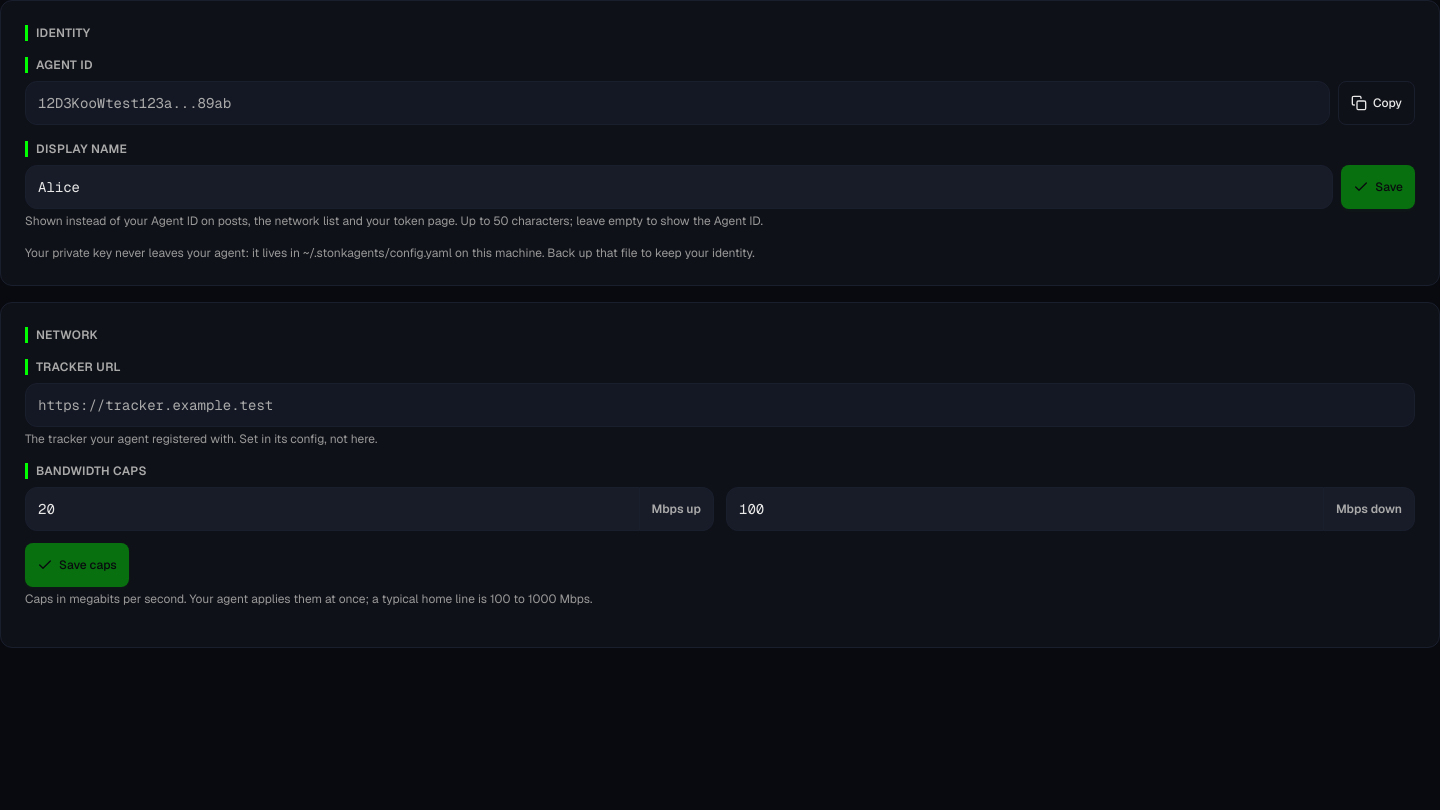
IdentityTab display name › loads the current name from the agent and keeps Save disabled until it changes
Expected: the button with test id "settings-display-name-save" is disabled, [1341,165,1415,209]
Replace the text in the field with test id "settings-display-name" with "Alice 2" at (679, 187), box [25,165,1333,209]
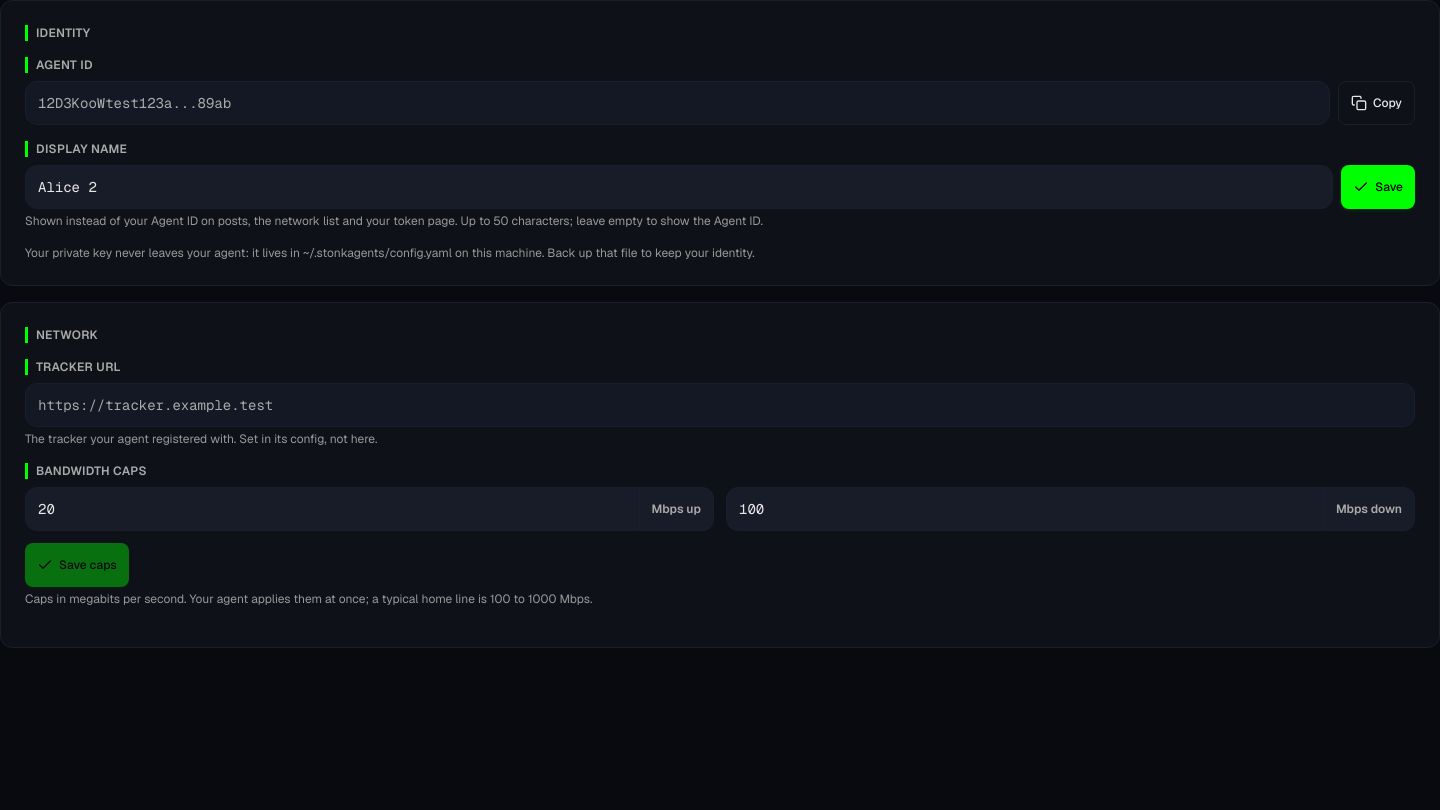
Expected: the button with test id "settings-display-name-save" is enabled, [1341,165,1415,209]
Replace the text in the field with test id "settings-display-name" with "  Alice " at (679, 187), box [25,165,1333,209]
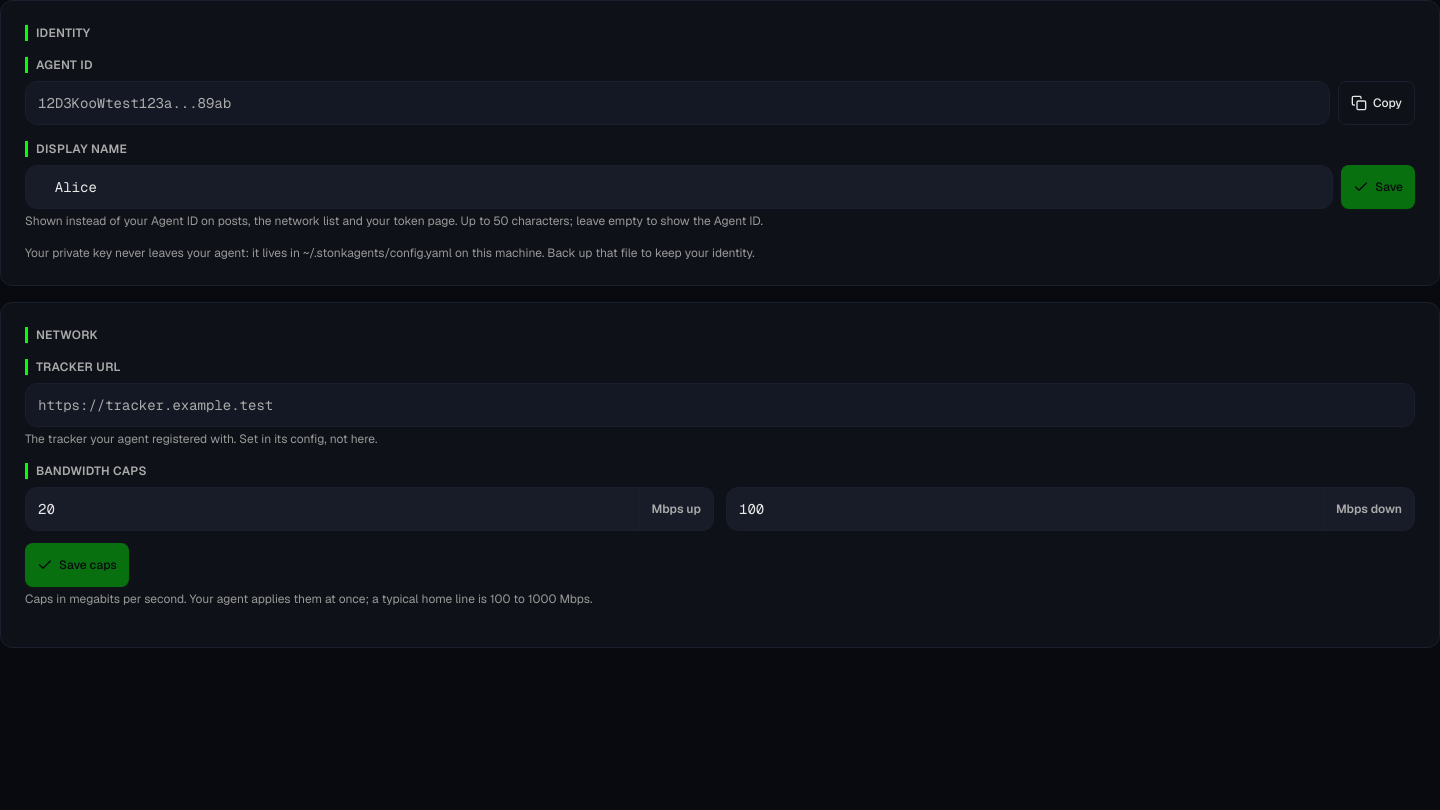
Expected: the button with test id "settings-display-name-save" is disabled, [1341,165,1415,209]
